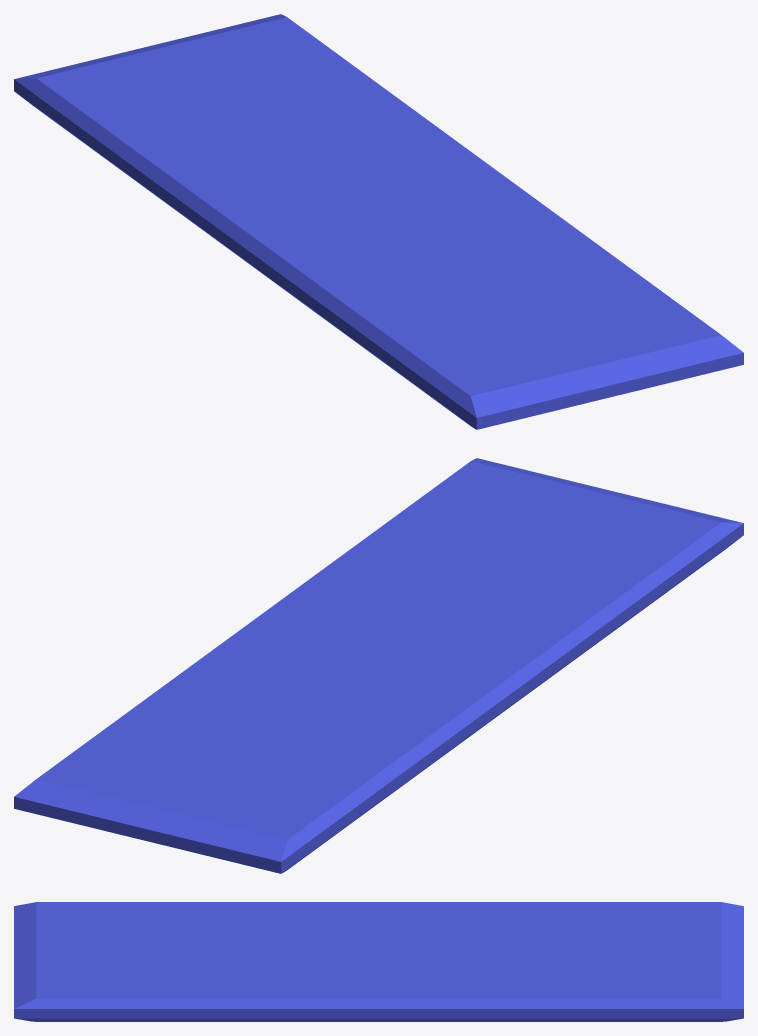
The model's file is ventilacionUVLP.fbx.
The picture shows the model from 3 angles, top to bottom: view 1: azimuth 30°, elevation 25°; view 2: azimuth 150°, elevation 25°; view 3: azimuth 270°, elevation 25°; orthographic projection. The views are drawn at different scales.
Visible parts, largest first — view 1: Plane; view 2: Plane; view 3: Plane.
Part boxes in pixels (bbox=[...]): Plane: bbox=[14, 14, 743, 429]; Plane: bbox=[14, 458, 743, 873]; Plane: bbox=[14, 902, 743, 1021].
Size of the model in its own units: 200 by 21.62 by 600.
